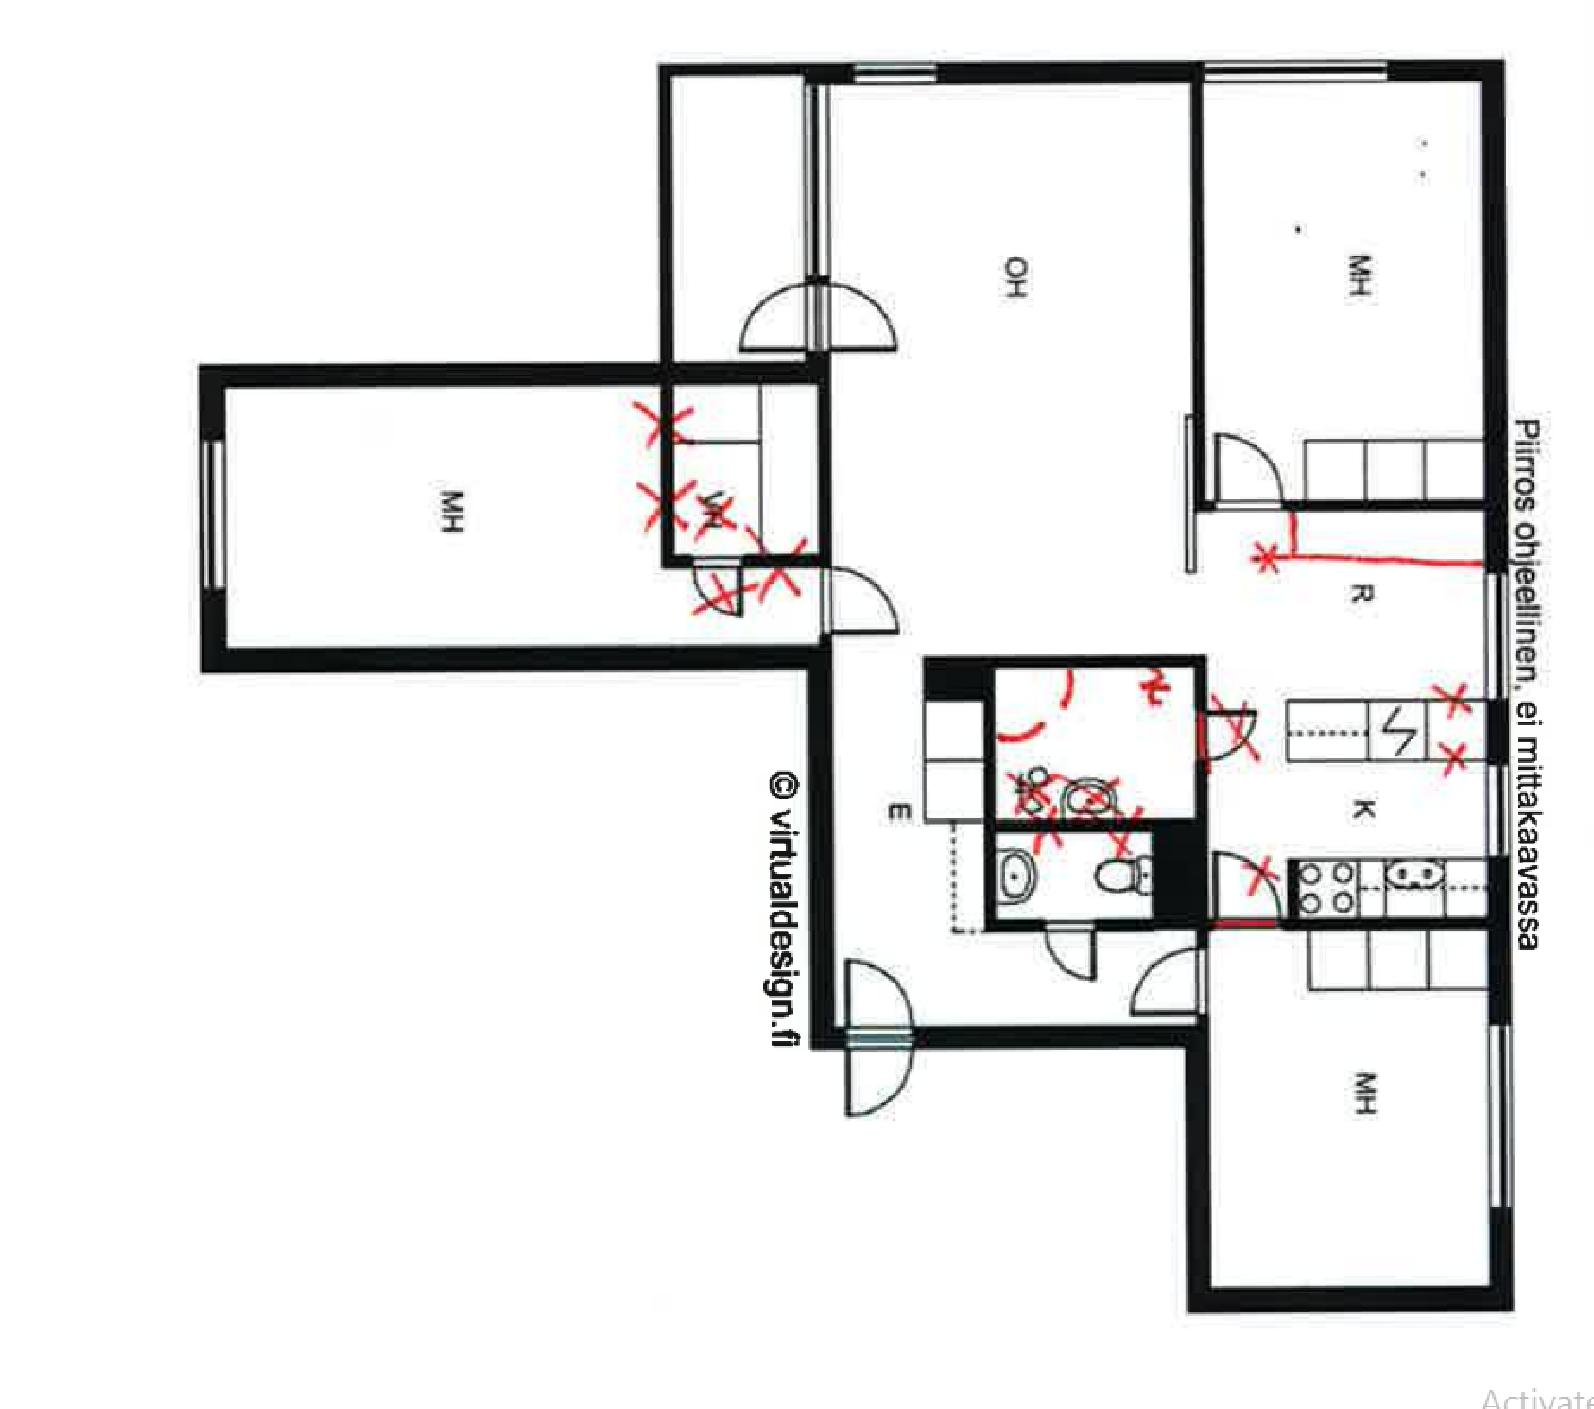door: (739, 273, 898, 360), (843, 955, 913, 1127), (1119, 947, 1213, 1027), (815, 567, 904, 642), (1206, 431, 1283, 515), (1212, 854, 1283, 928), (1195, 704, 1268, 767), (695, 560, 752, 626), (1046, 918, 1093, 985)
window: (800, 79, 830, 286), (1482, 1025, 1516, 1206), (1198, 54, 1383, 87), (1482, 577, 1510, 700), (197, 442, 220, 585), (1487, 758, 1512, 858), (854, 64, 933, 87)
zone: (836, 88, 1487, 1024), (224, 375, 824, 636), (1200, 82, 1482, 496), (1201, 930, 1489, 1278), (673, 69, 804, 356), (1000, 661, 1194, 812), (989, 834, 1153, 913)
